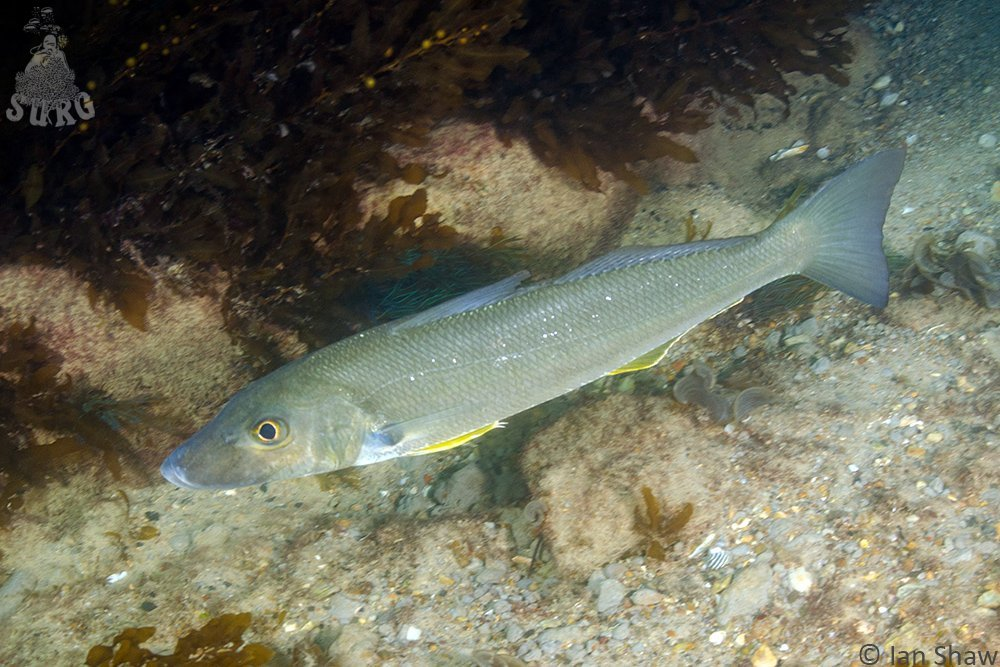kiss: (156, 139, 911, 511)
